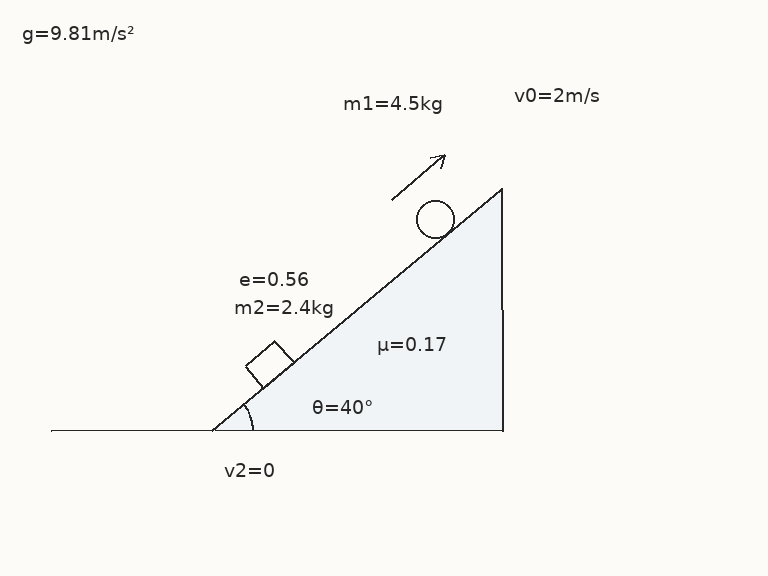ball: (414, 198, 456, 240)
block: (243, 338, 295, 390)
ramp: (211, 186, 503, 432)
